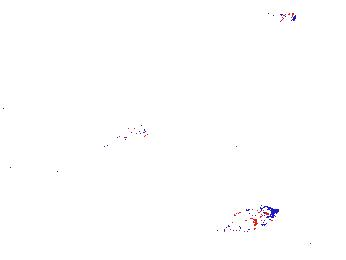X-ray fish: (278, 63, 330, 91), (225, 203, 275, 228)
red belly glassfish: (271, 10, 297, 24)
redtail glassfish: (88, 115, 154, 134)
